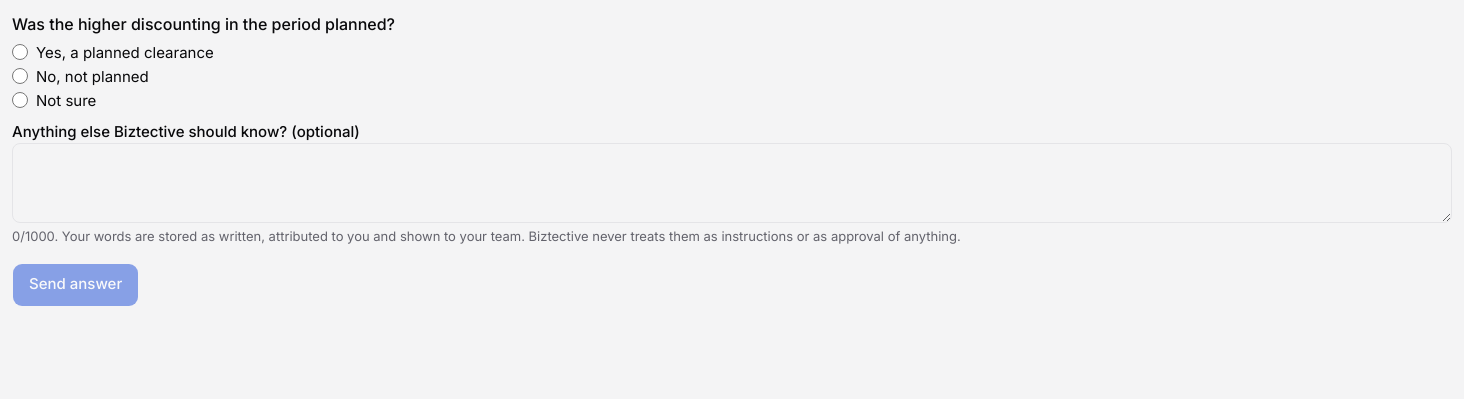
QuestionForm › shows a validation problem without reloading
Type "x" into the text box labelled "Anything else Biztective should know? (optional)". click: x=732, y=183
box: [12,143,1452,223]
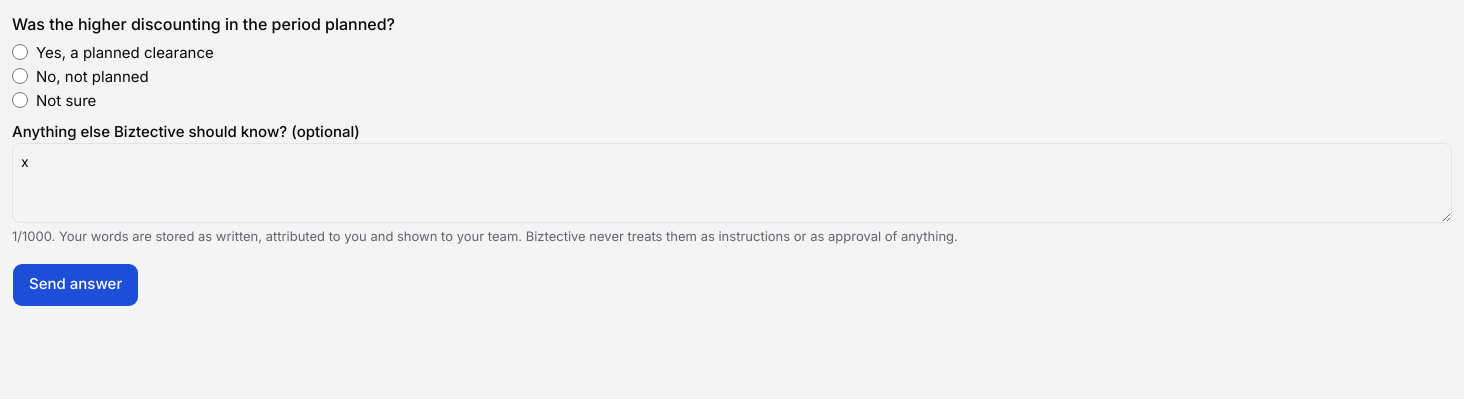
Click the button "Send answer". click: x=76, y=284
box: [12,262,139,306]
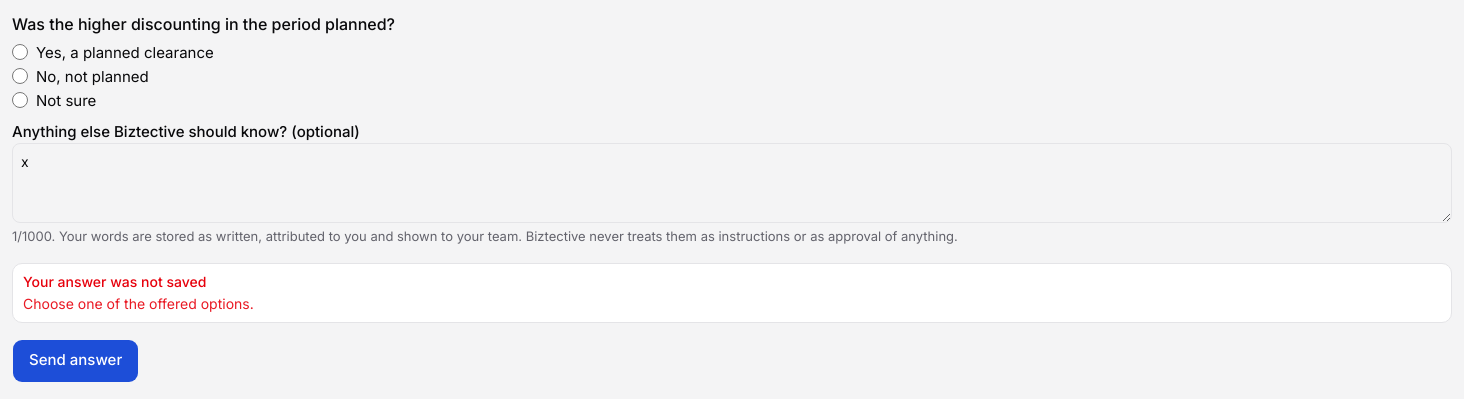
Now the message shows "Choose one of the offered options.", box [23,294,254,312]
